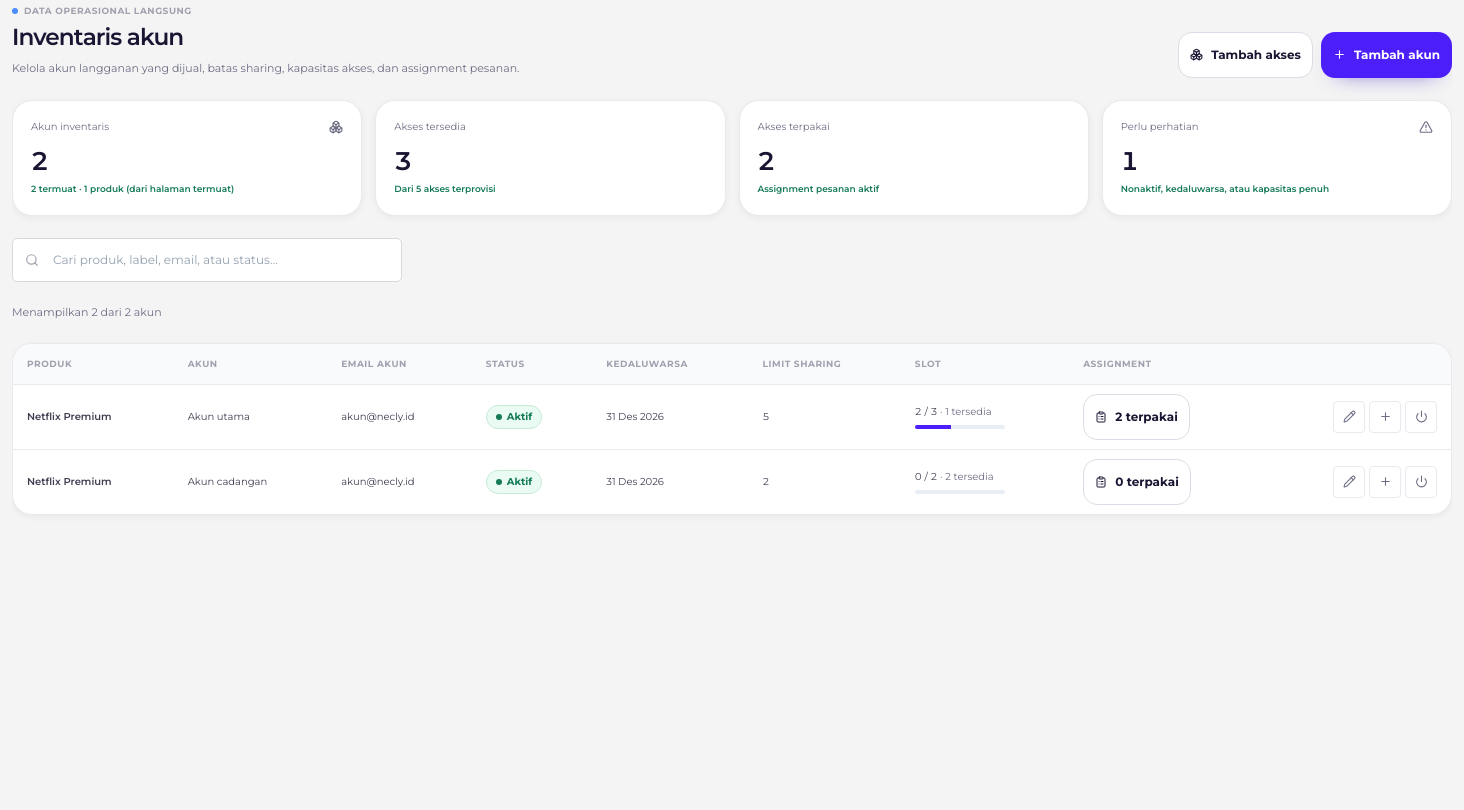
it: Halaman Inventaris akun › menampilkan assignment order dan pengguna secara read-only saat diminta
Expected: the text "Akun utama" is shown, [174,384,327,449]
Click the button with aria-label "Lihat assignment Akun utama": {"x": 1136, "y": 417} [1083,394,1190,440]
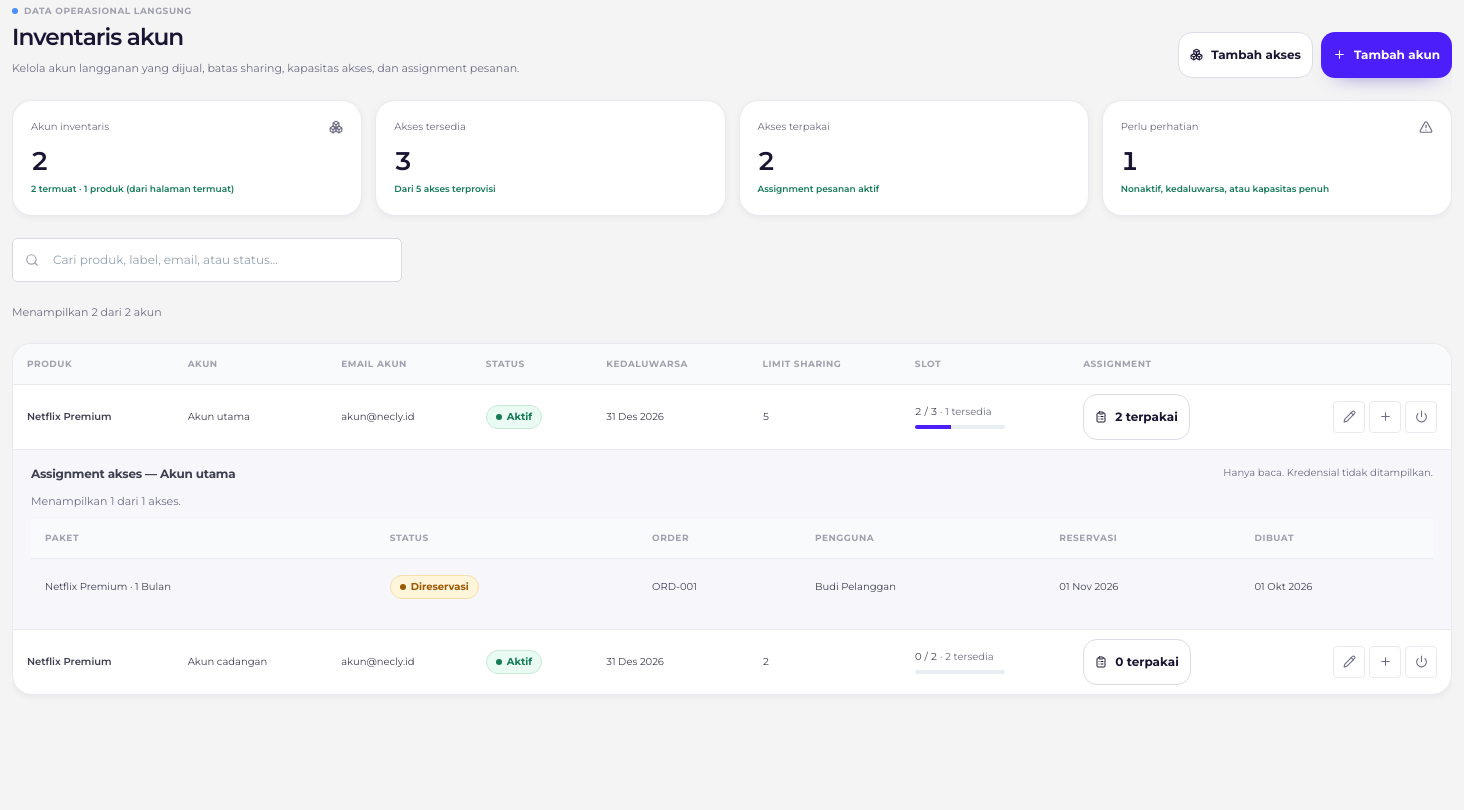
Expected: the link "ORD-001" is shown, [652,580,697,593]
Expected: the text "Budi Pelanggan" is shown, [801,559,1045,615]
Expected: the text "Netflix Premium · 1 Bulan" is shown, [31,559,376,615]
